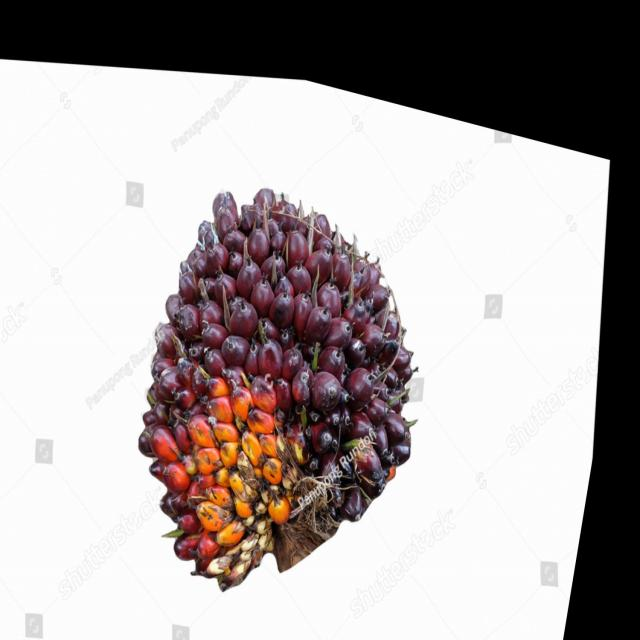Ripefruit: (109, 116, 477, 629)
